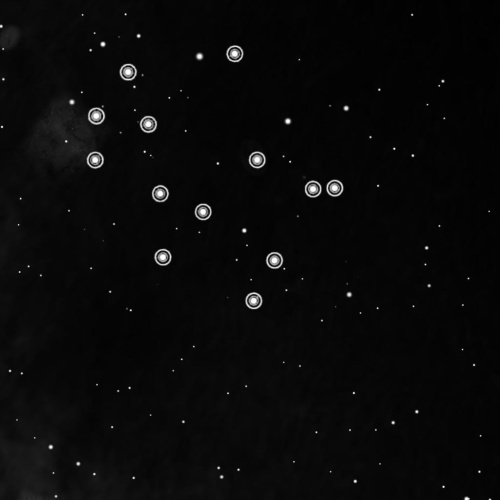gemini: (82, 39, 347, 318)
